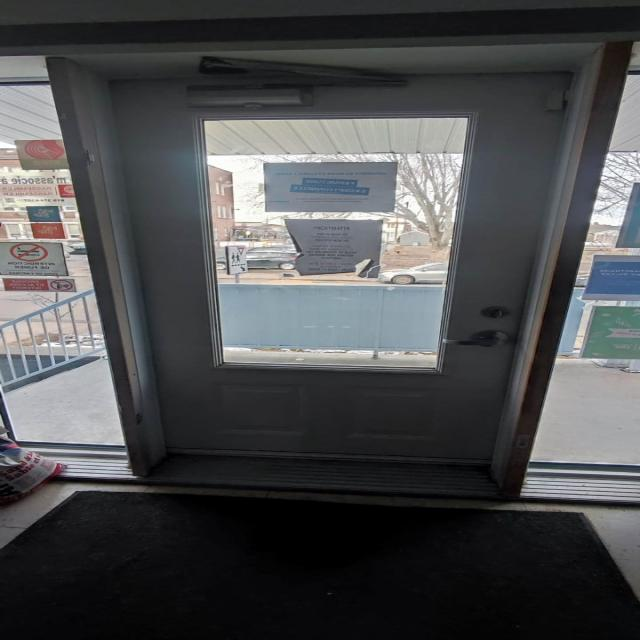door-handle: (442, 330, 508, 346)
